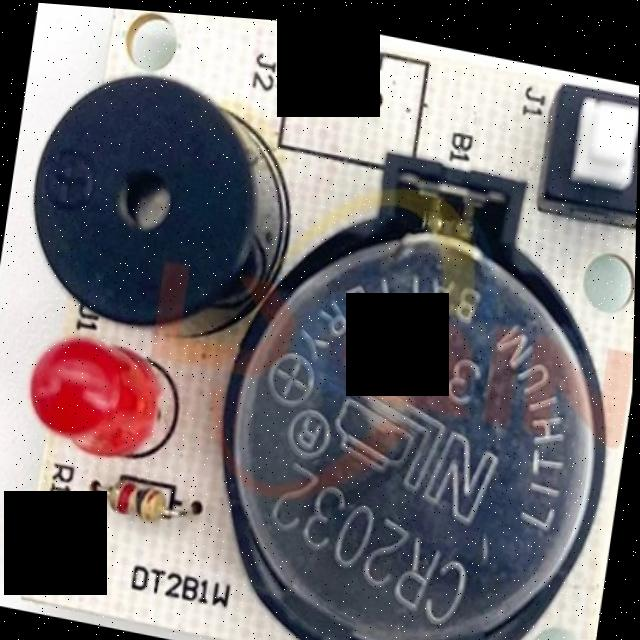2235: (525, 69, 639, 217)
LED: (2, 316, 169, 468)
battery: (192, 165, 628, 640)
buzzer: (3, 43, 268, 349)
resistor IR1: (87, 469, 183, 535)
